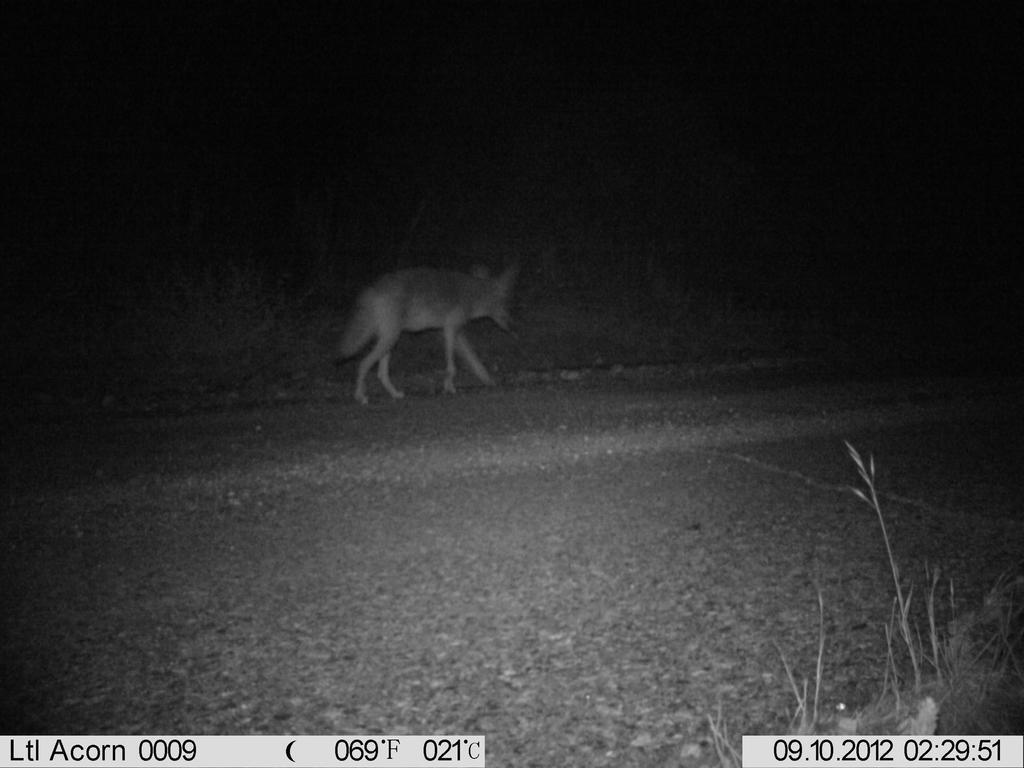coyote: (329, 253, 525, 406)
